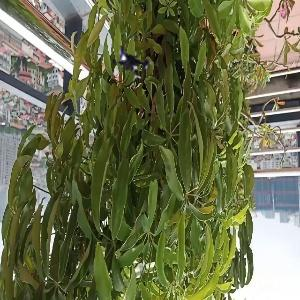drone: (101, 22, 167, 88)
